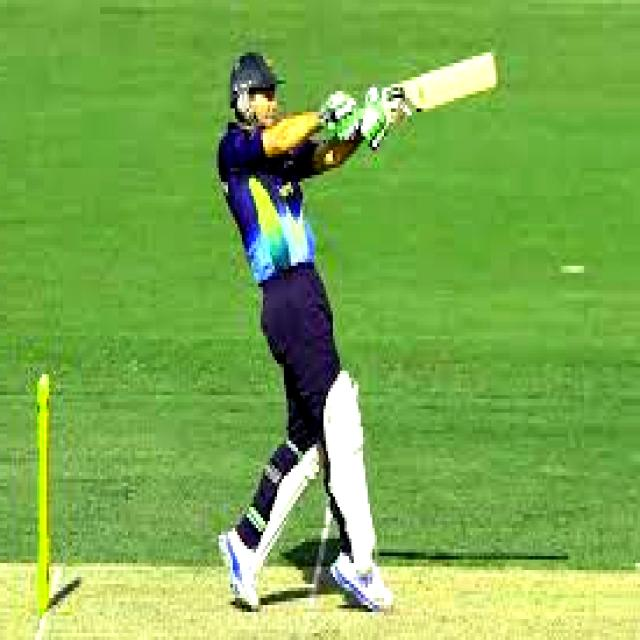toe: (489, 48, 502, 98)
